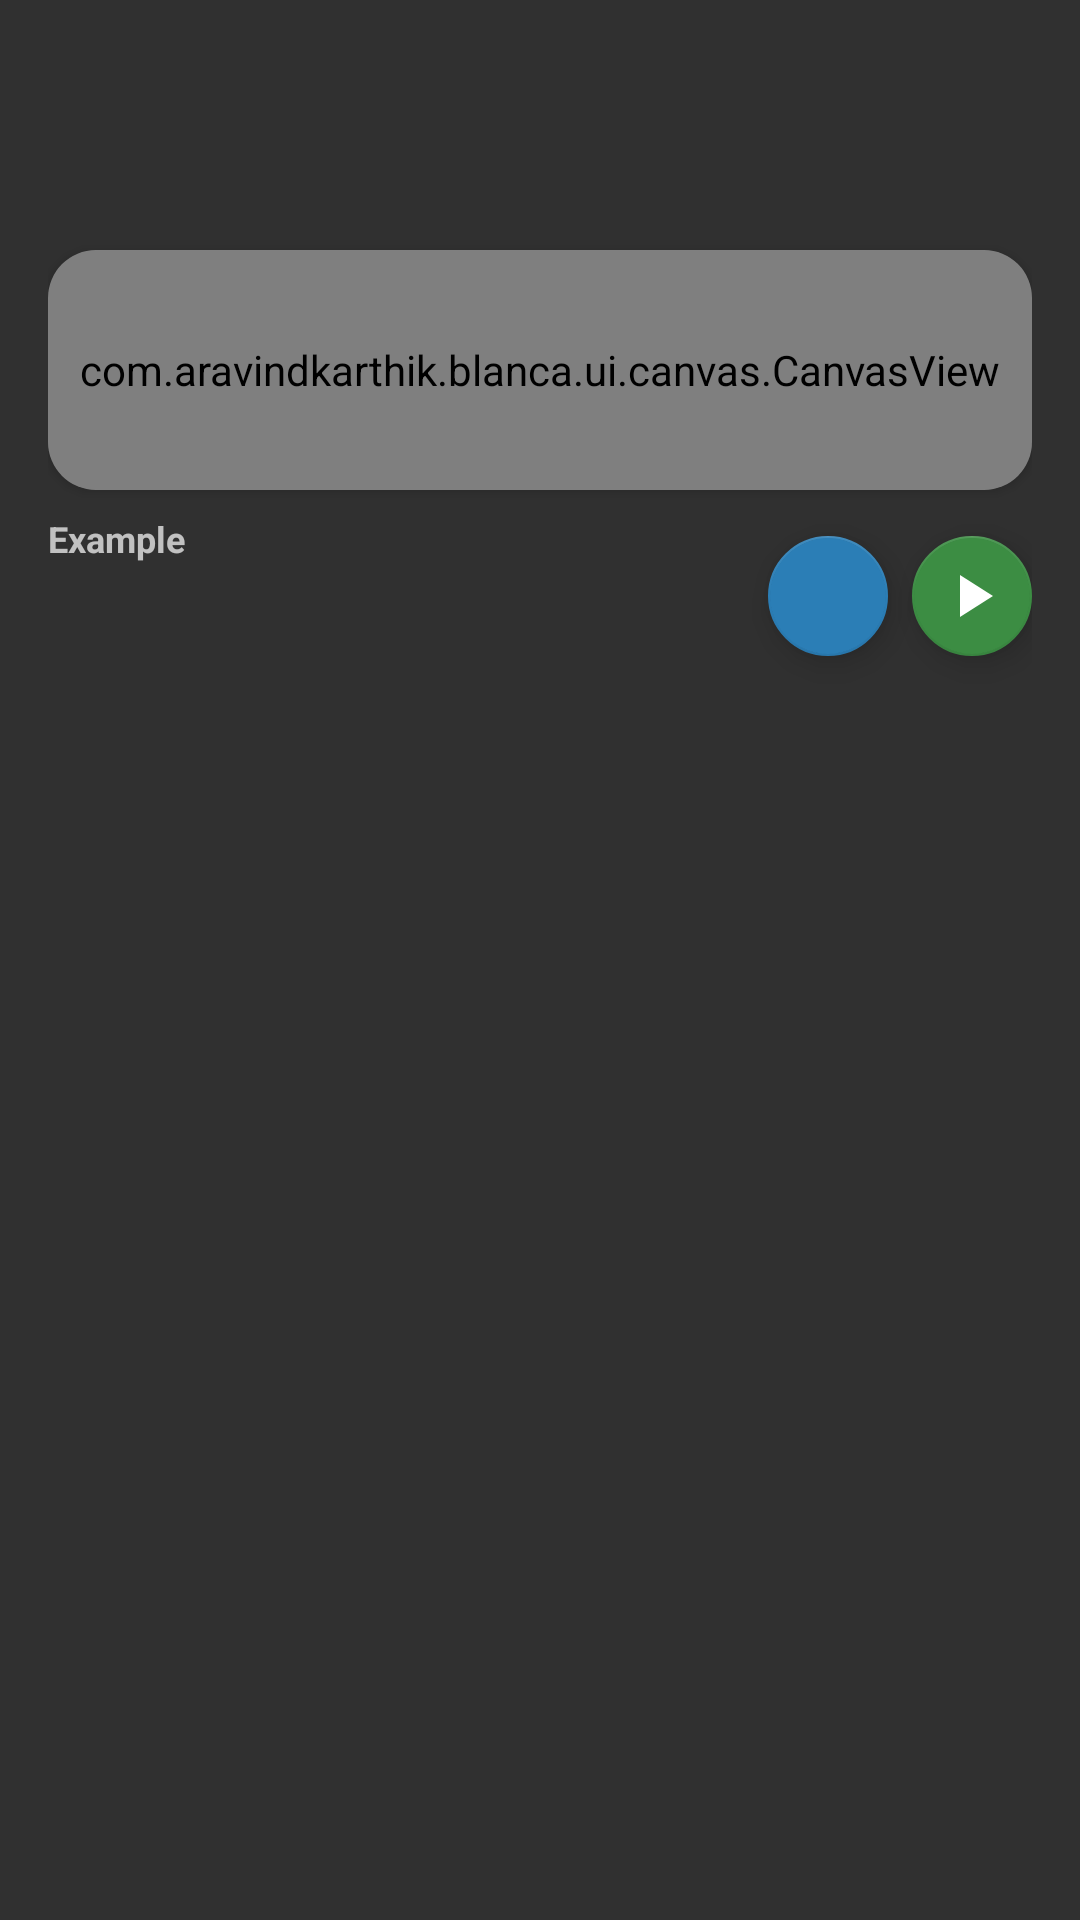

Icon bounding boxes for this 1080 x 1920 phone screenshot, format (x1, y1, x2, y2):
blanca compile: (912, 536, 1032, 656)
